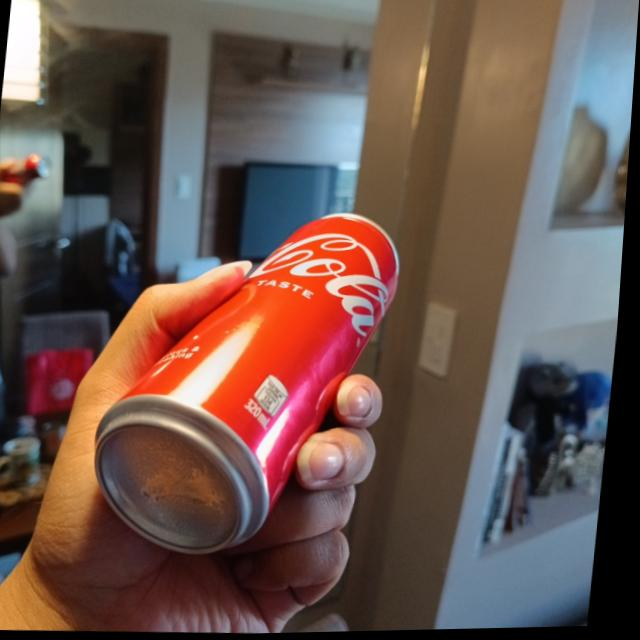coke: (92, 207, 407, 562)
